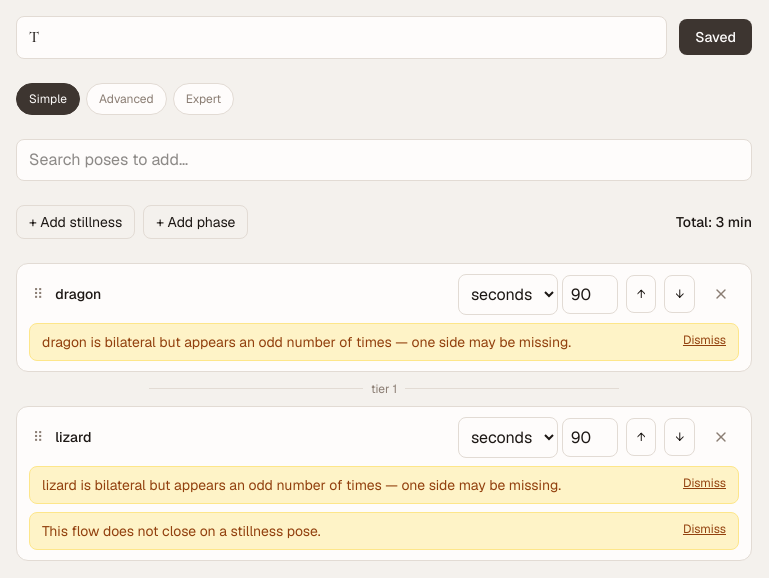
validator warning anchoring + dismissal (004 US6) › still warns for the same condition at a different item (kind + item key)
Expected: the element with test id "compose-row-0" is shown, [16,263,752,372]
Expected: the number of elements with test id "validator-warning-laterality" is 2, [29,323,739,361]; [29,466,739,504]
Click the 1st button with test id "validator-warning-dismiss-laterality": (704, 340) [683,332,726,348]
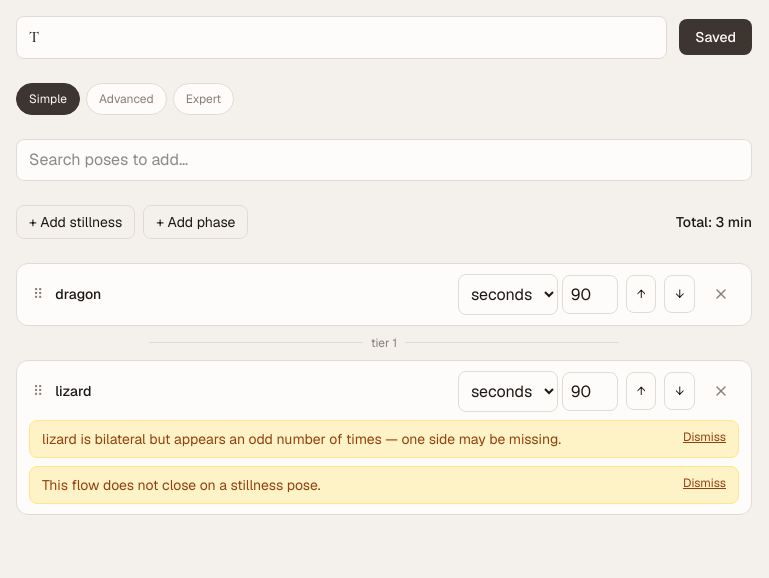
Result: the number of elements with test id "validator-warning-laterality" is 1 at [29,420,739,458]
